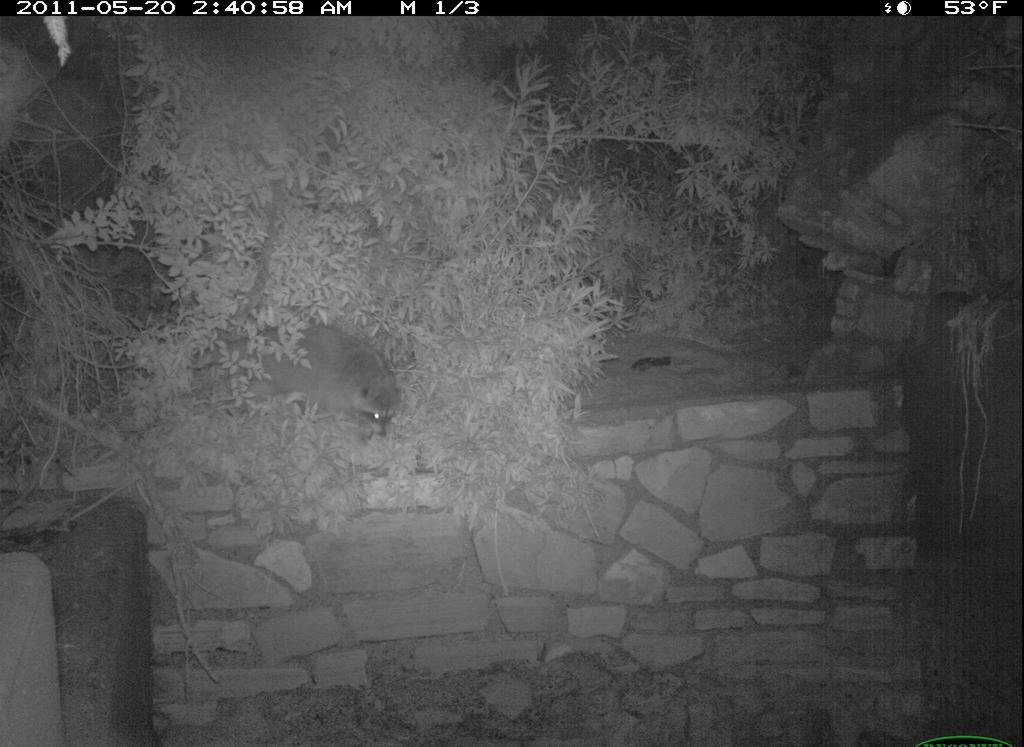raccoon: (228, 313, 410, 450)
